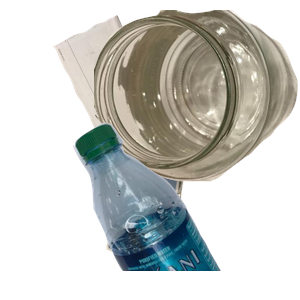glass: (94, 10, 300, 184)
paper: (51, 13, 230, 186)
plastic: (71, 120, 300, 300)
trash: (104, 152, 280, 300)
